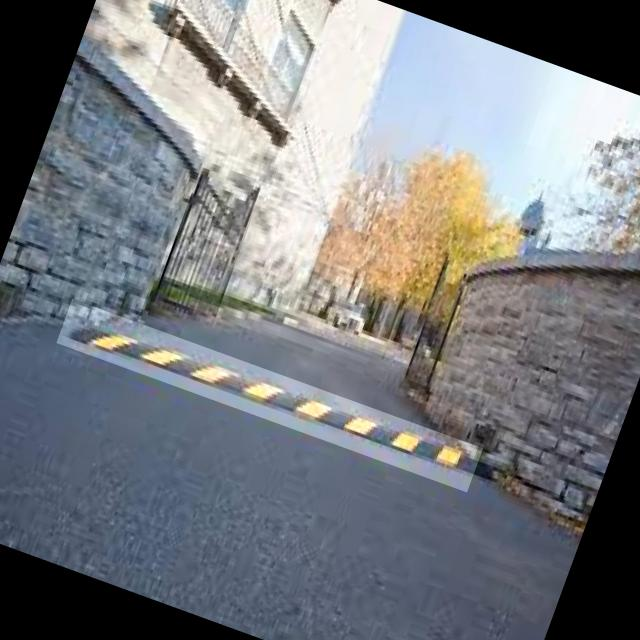bump: (56, 299, 483, 493)
